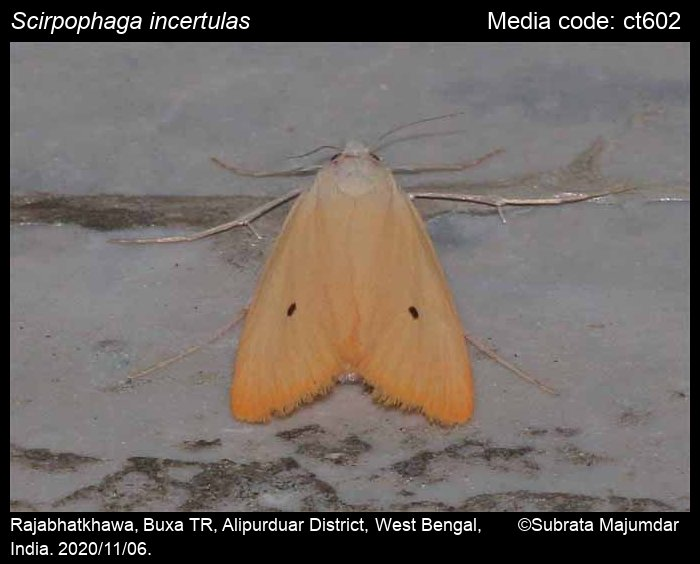Crambidae: (105, 121, 598, 429)
